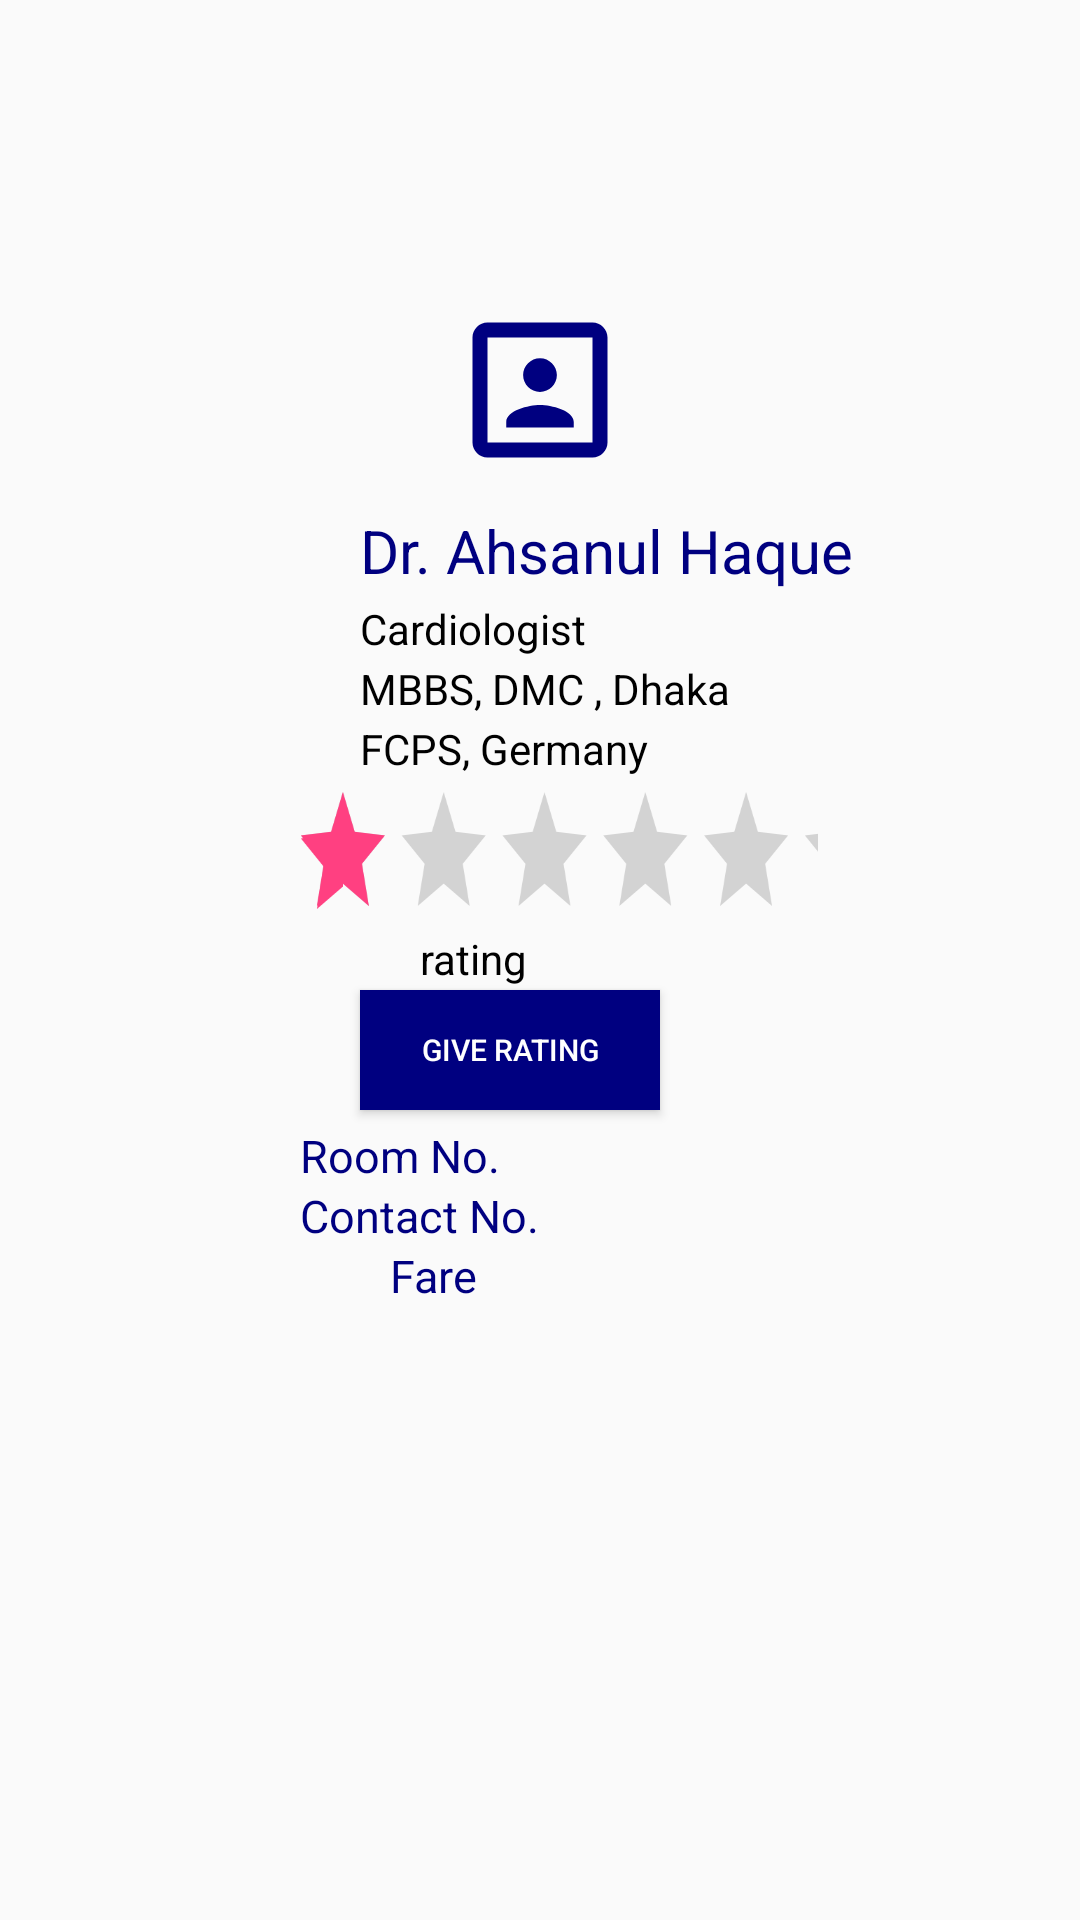

Point at icon controls on the screen. Image size 1080px x 1920px, points as [x,y].
manicon: [540,390]
